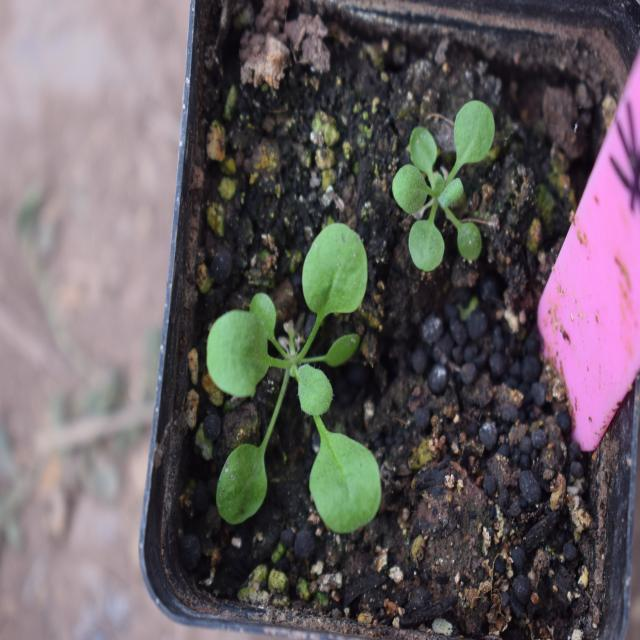Shepherd_Purse: (215, 214, 389, 541), (378, 96, 500, 273)
